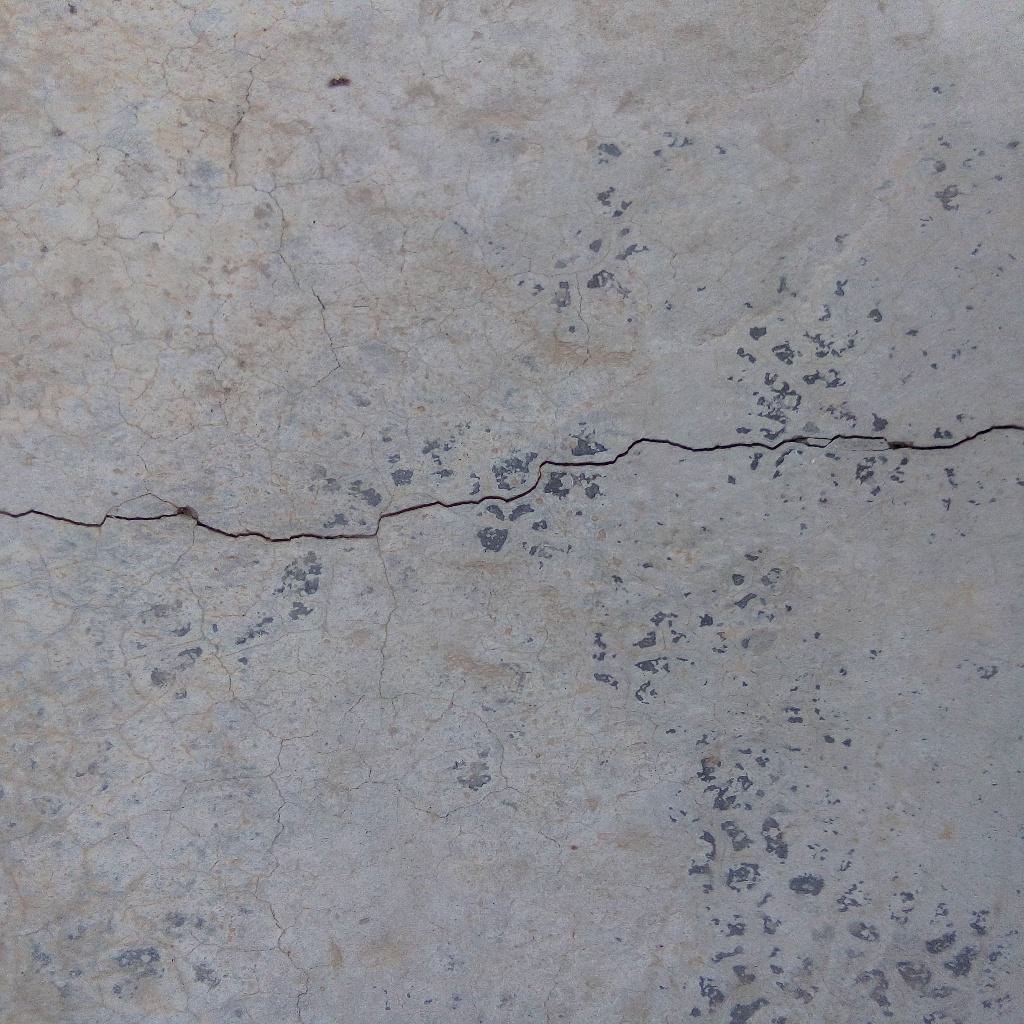Crack: (1, 421, 1024, 543)
